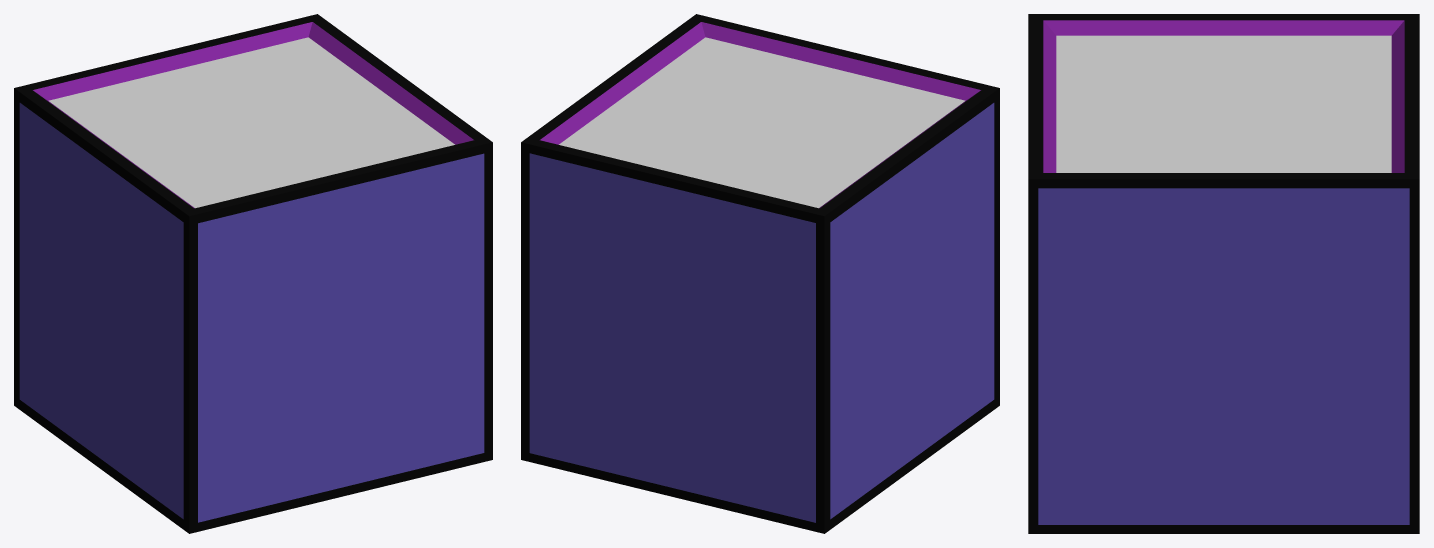
The model's file is NormalSquare.fbx.
The picture shows the model from 3 angles, left to right: view 1: azimuth 30°, elevation 25°; view 2: azimuth 150°, elevation 25°; view 3: azimuth 270°, elevation 25°; orthographic projection. The views are drawn at different scales.
Parts seen in each view (by area): view 1: Cube; view 2: Cube; view 3: Cube.
Part boxes in pixels (x1,y1,x2,y2): Cube: [14, 14, 492, 533]; Cube: [521, 14, 999, 533]; Cube: [1028, 14, 1419, 533].
Size of the model in its own units: 200 by 200 by 200.
